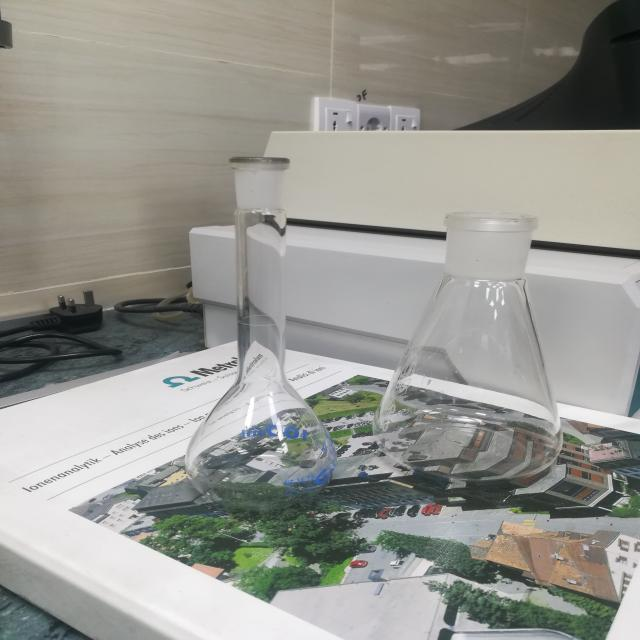Conical_Flask: (376, 187, 584, 515)
Volumetric_Flask: (146, 128, 370, 533)
